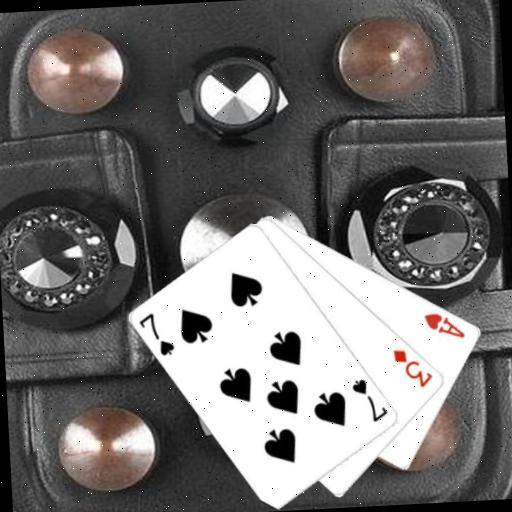3D: (390, 345, 436, 391)
7S: (349, 374, 391, 425), (136, 309, 177, 359)
AH: (421, 308, 468, 342)
